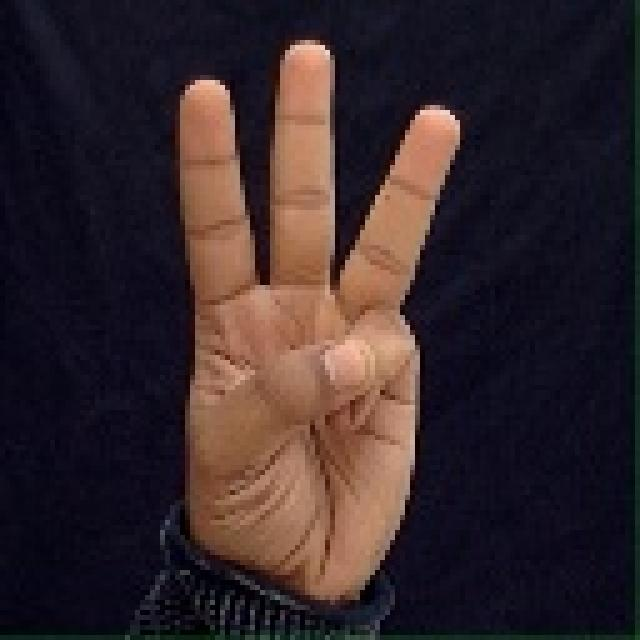Numeric-3: (161, 29, 470, 610)
